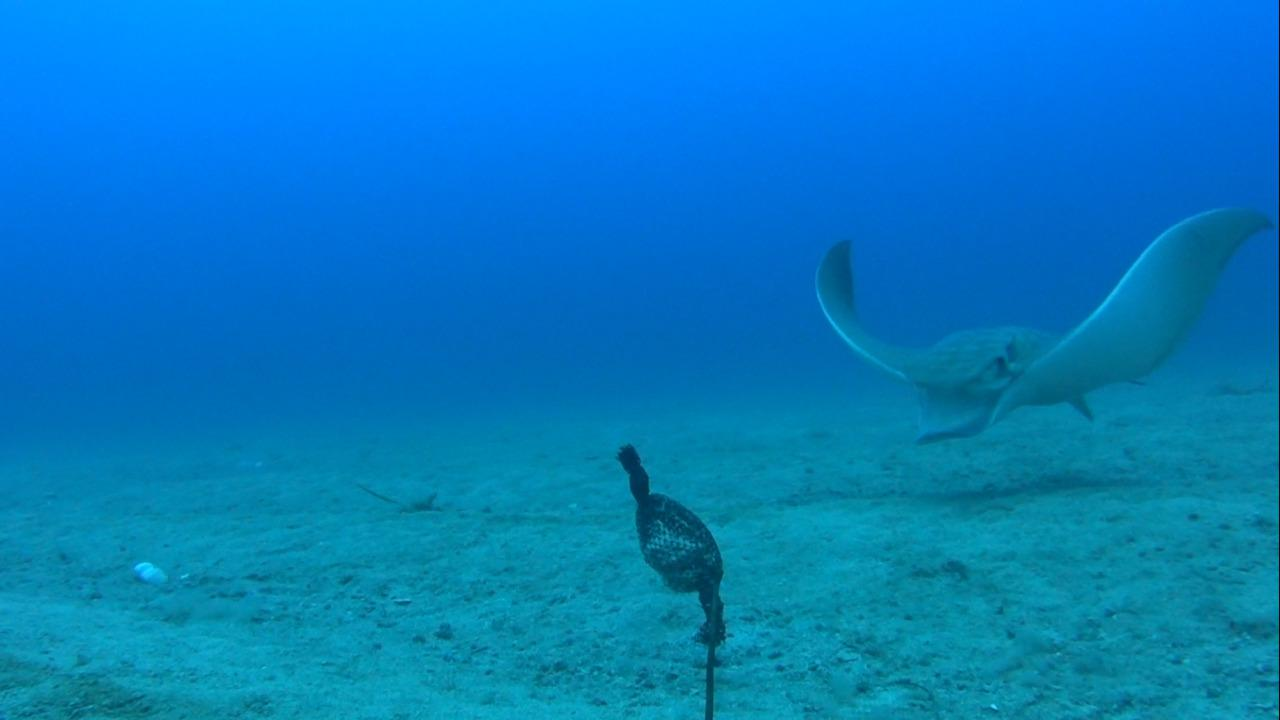myliobatis: (803, 200, 1274, 455)
